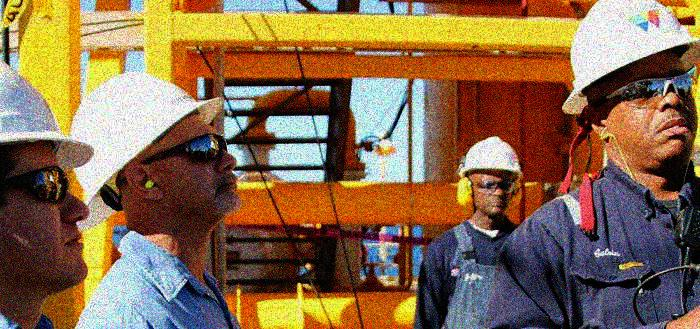helmet: (67, 72, 241, 220), (561, 1, 699, 167), (1, 57, 99, 284), (456, 134, 524, 216)
